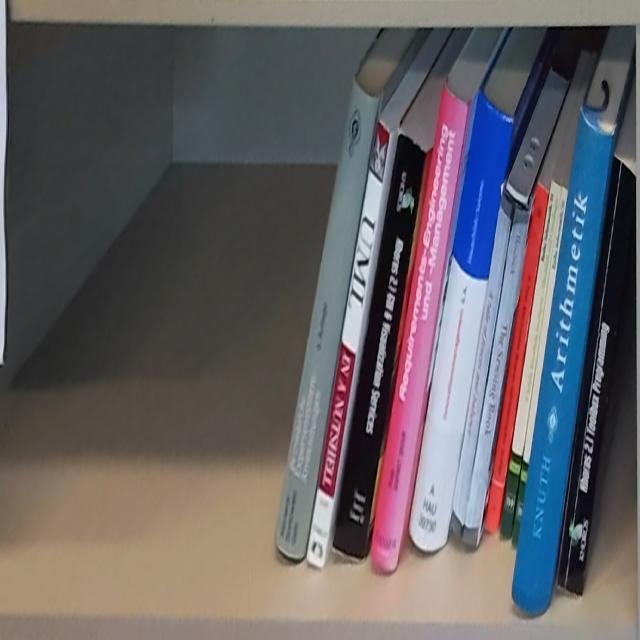Book Spine: (510, 106, 617, 615), (275, 77, 381, 559), (370, 83, 470, 580), (411, 85, 513, 553), (333, 130, 425, 563), (306, 118, 391, 574), (554, 150, 637, 590), (457, 205, 528, 554), (482, 181, 551, 538), (448, 191, 513, 550), (509, 185, 570, 551), (499, 178, 561, 537)
